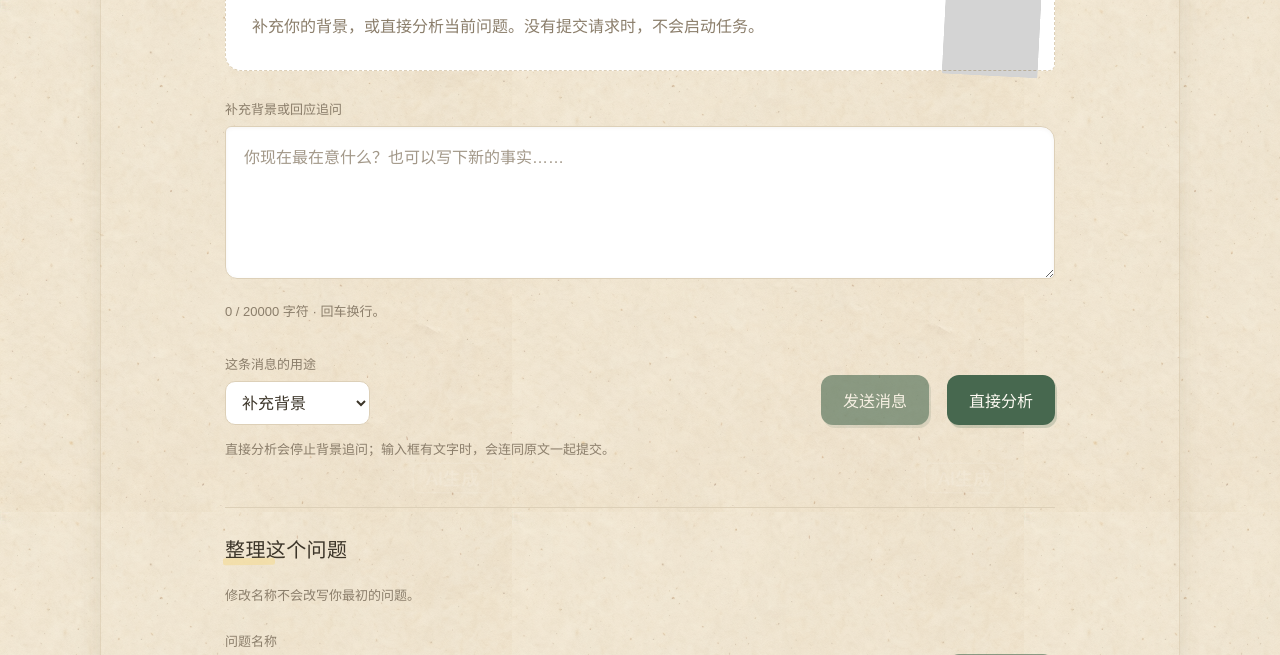
Test: 覆盖不足的实际终态说明未发布答案，不请求虚构答案ID
(page scrolled)
Expected: the text box labelled "补充背景或回应追问" is shown, [225,126,1055,279]
Click the button "直接分析". click: (1001, 400)
box: [947,375,1055,425]
(page scrolled)
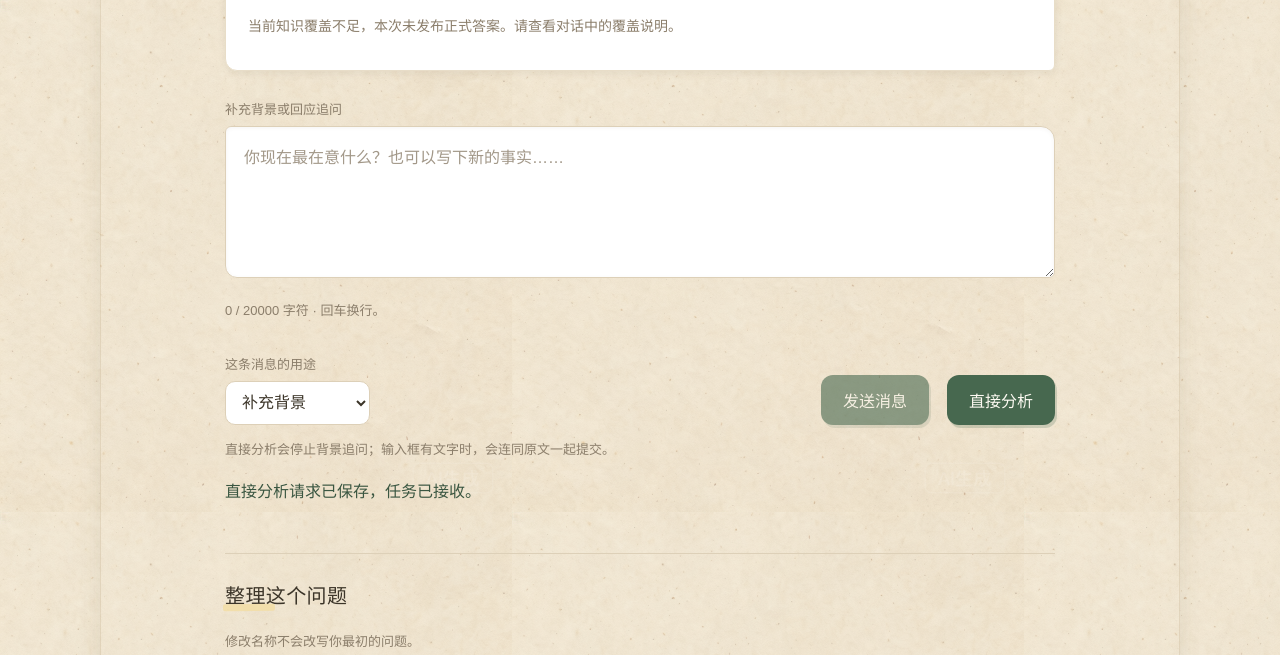
Now the text "当前知识覆盖不足，本次未发布正式答案。请查看对话中的覆盖说明。" is shown, box [248,18,682,34]
